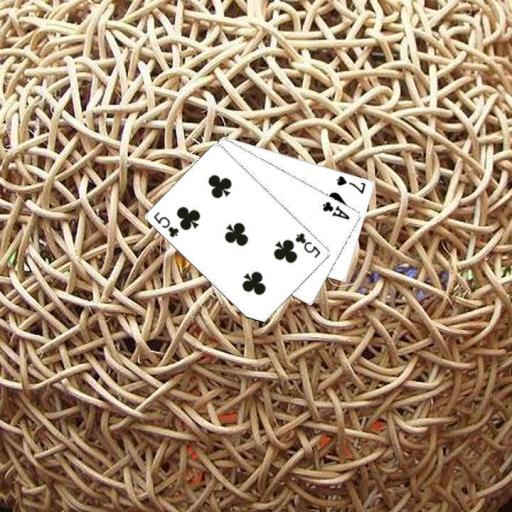card-corner: (150, 208, 180, 239), (292, 230, 322, 260), (334, 173, 368, 195), (320, 198, 351, 222)
